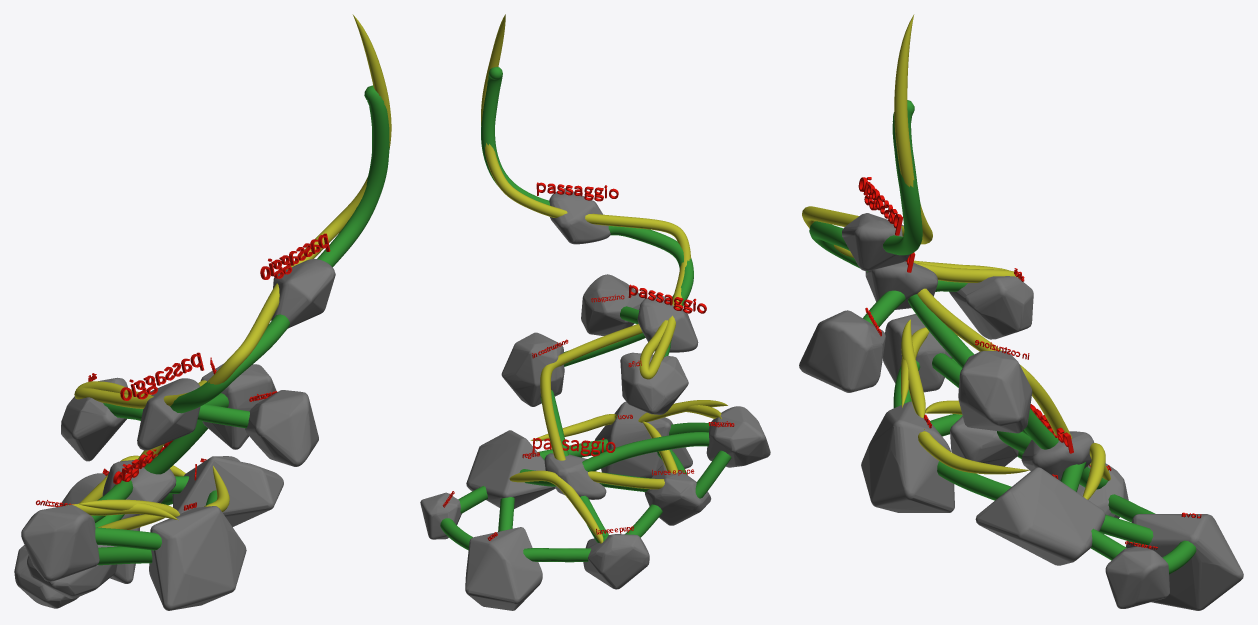
File: nido_level_design.fbx
3 views of the same model, side by side, from view 1: azimuth 30°, elevation 25°; view 2: azimuth 150°, elevation 25°; view 3: azimuth 270°, elevation 25° (orthographic). The views are drawn at different scales.
Parts seen in each view (by area): view 1: s.0029, s.0127, s.0028, s.0037, s.0046, s.0082, s.0069, s.0036, s.0067, s.0034, s.0114, s.0065 (+12 smaller); view 2: s.0127, s.0048, s.0037, s.0029, s.0034, s.0036, s.0028, s.0044, s.0046, s.0050, s.0069, s.0115 (+17 smaller); view 3: s.0037, s.0029, s.0127, s.0048, s.0046, s.0034, s.0036, s.0054, s.0069, s.0028, s.0082, s.0050 (+18 smaller).
Boxes of the visible parts, x1=… form: s.0029: x1=149, y1=506, x2=246, y2=610; s.0127: x1=74, y1=14, x2=391, y2=529; s.0028: x1=21, y1=504, x2=99, y2=581; s.0037: x1=172, y1=456, x2=283, y2=526; s.0046: x1=245, y1=390, x2=318, y2=466; s.0082: x1=317, y1=85, x2=389, y2=267; s.0069: x1=271, y1=259, x2=335, y2=328; s.0036: x1=61, y1=377, x2=127, y2=461; s.0067: x1=137, y1=378, x2=200, y2=450; s.0034: x1=200, y1=364, x2=276, y2=449; s.0114: x1=170, y1=314, x2=289, y2=413; s.0065: x1=102, y1=460, x2=176, y2=519; s.0127: x1=481, y1=14, x2=690, y2=489; s.0048: x1=465, y1=527, x2=542, y2=610; s.0037: x1=466, y1=430, x2=555, y2=508; s.0029: x1=594, y1=401, x2=692, y2=478; s.0034: x1=501, y1=332, x2=564, y2=406; s.0036: x1=620, y1=352, x2=688, y2=414; s.0028: x1=706, y1=406, x2=770, y2=467; s.0044: x1=583, y1=534, x2=649, y2=589; s.0046: x1=581, y1=274, x2=644, y2=335; s.0050: x1=644, y1=464, x2=711, y2=525; s.0069: x1=549, y1=188, x2=610, y2=244; s.0115: x1=582, y1=432, x2=709, y2=471; s.0037: x1=975, y1=467, x2=1105, y2=565; s.0029: x1=861, y1=401, x2=954, y2=512; s.0127: x1=802, y1=14, x2=1071, y2=440; s.0048: x1=1126, y1=514, x2=1243, y2=610; s.0046: x1=799, y1=310, x2=885, y2=392; s.0034: x1=958, y1=351, x2=1032, y2=433; s.0036: x1=949, y1=276, x2=1033, y2=339; s.0054: x1=1105, y1=545, x2=1169, y2=608; s.0069: x1=842, y1=213, x2=909, y2=271; s.0028: x1=883, y1=314, x2=957, y2=392; s.0082: x1=883, y1=100, x2=922, y2=255; s.0050: x1=950, y1=416, x2=1018, y2=466.
Bounding box in the file's own units: 4.72 × 7.71 × 4.75.
